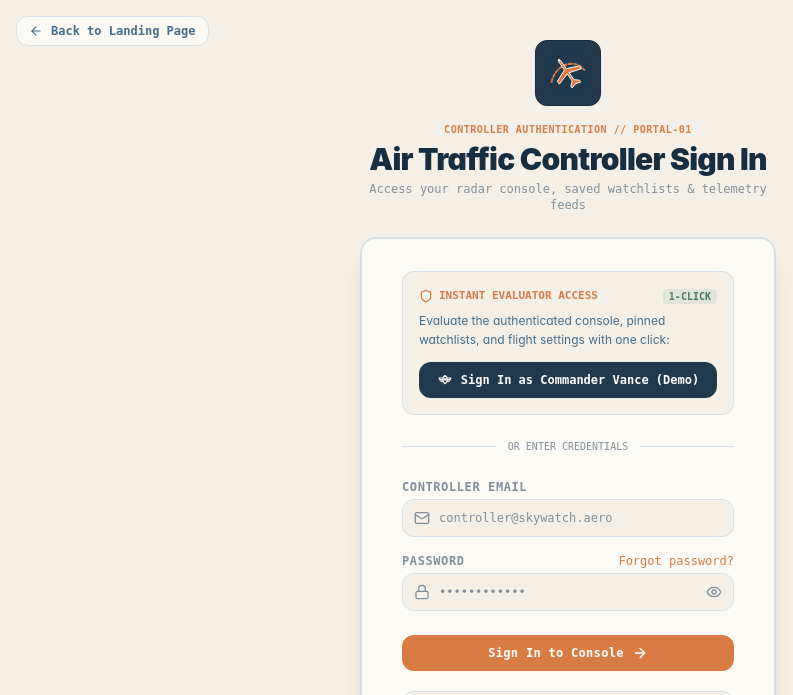
Test: Landing Page & Authentication Suite › Authentication Store & Pages › renders SignInPage with demo button and validation
expect the heading "Air Traffic Controller Sign In" is shown: met, box [360,141,776,177]
expect the button "Sign In as Commander Vance (Demo)" is shown: met, box [419,362,717,398]
Note: Submit empty
Click the button "Sign In to Console".
click(568, 652)  # box [402,634,734,670]
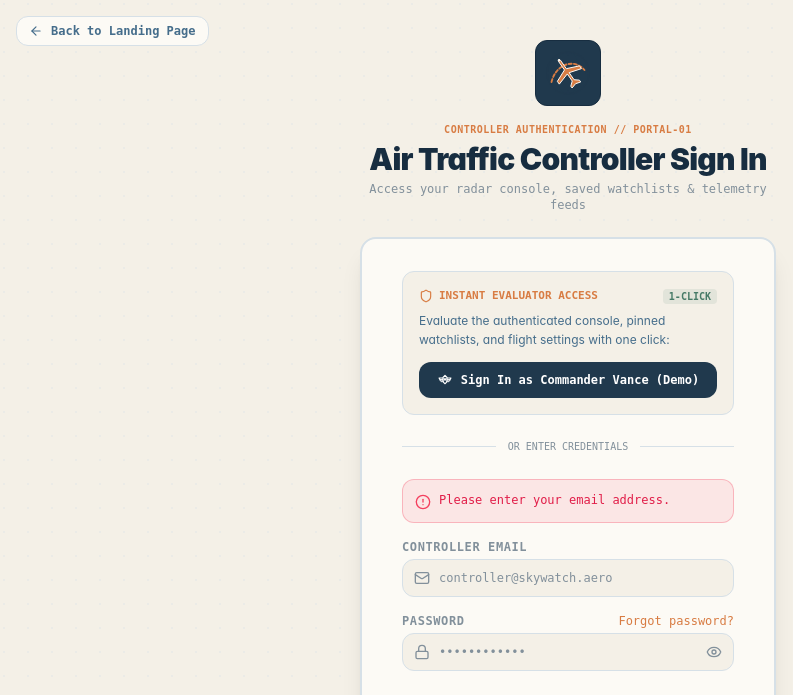
expect the text "Please enter your email address." is shown: met, box [439,492,670,508]
